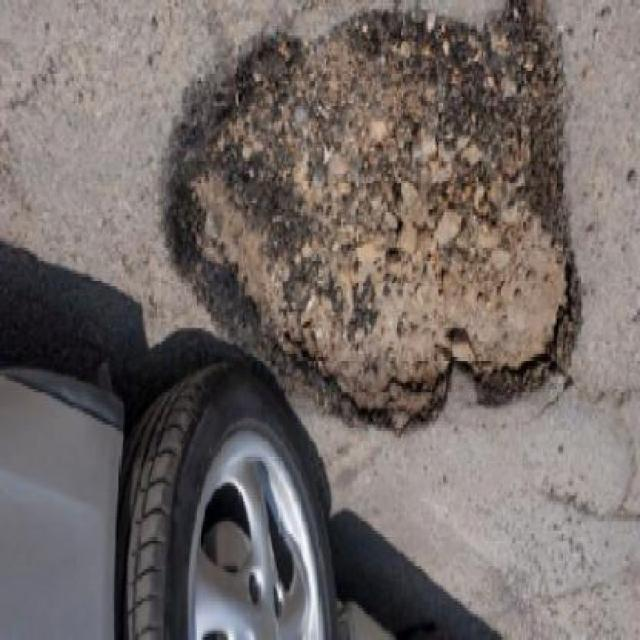pothole1: (162, 3, 584, 437)
